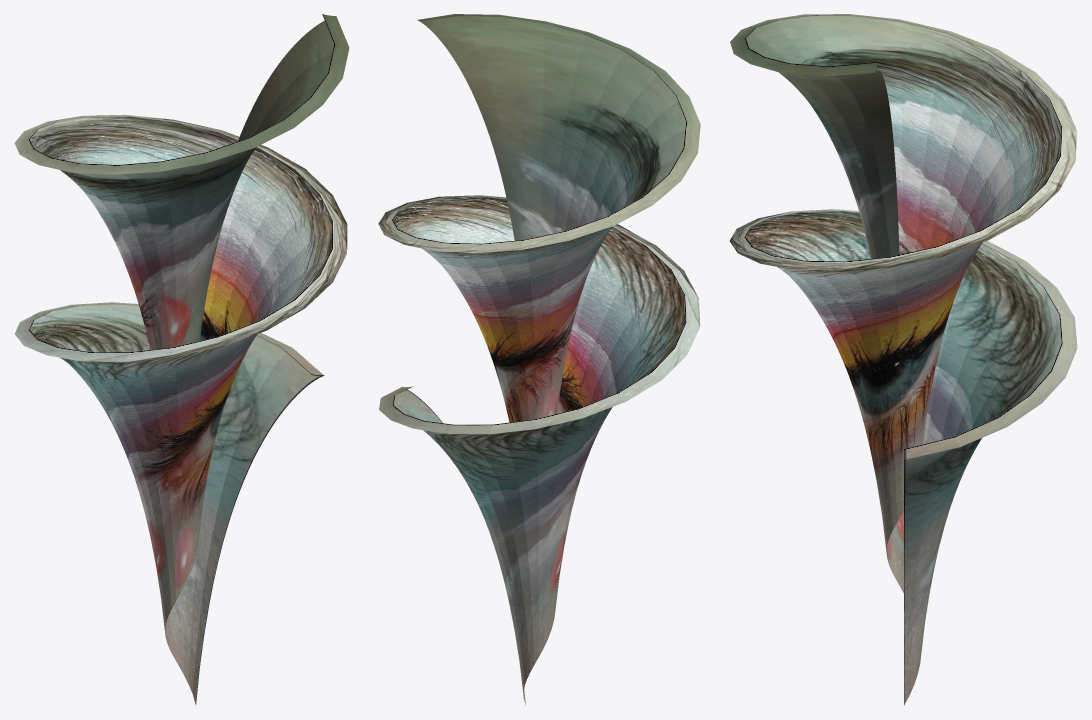
File: spiral2.gltf
The picture shows the model from 3 angles, left to right: view 1: azimuth 30°, elevation 25°; view 2: azimuth 150°, elevation 25°; view 3: azimuth 270°, elevation 25°; orthographic projection. The views are drawn at different scales.
Parts seen in each view (by area): view 1: Obj_000001; view 2: Obj_000001; view 3: Obj_000001.
Part boxes in pixels (box(x1,y1,x2,y2)): Obj_000001: box(14, 14, 349, 704); Obj_000001: box(378, 14, 700, 705); Obj_000001: box(729, 14, 1077, 705).
Bounding box in the file's own units: 4.6 × 10.24 × 4.6.
1 material, 1 textured.
